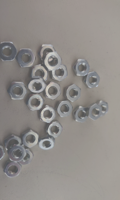nut: (8, 82, 28, 101), (3, 161, 23, 179), (17, 49, 36, 67), (21, 130, 39, 149), (0, 42, 17, 62), (64, 84, 82, 102), (73, 59, 90, 78), (28, 77, 46, 94), (28, 94, 45, 112), (45, 82, 62, 100), (51, 64, 68, 82), (56, 101, 73, 119), (40, 106, 57, 124), (8, 147, 26, 164), (46, 52, 62, 71), (32, 65, 49, 82), (39, 45, 56, 62), (46, 122, 63, 139), (19, 149, 36, 166), (84, 72, 100, 89), (74, 106, 89, 124), (88, 104, 103, 122), (5, 135, 21, 151), (40, 136, 56, 151), (99, 100, 109, 117), (0, 144, 6, 162)
